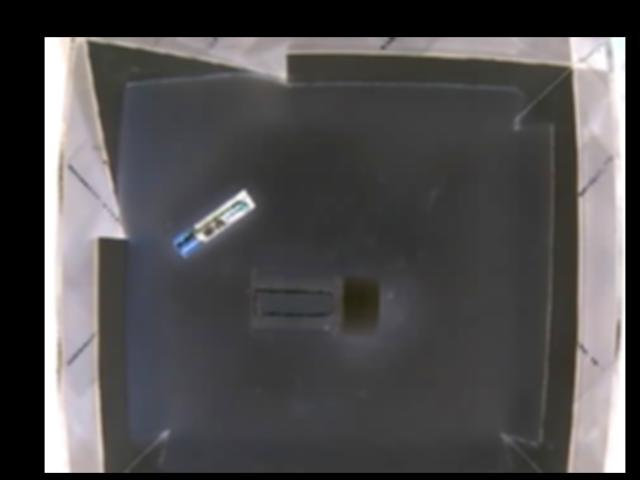Battery: (173, 190, 257, 255)
Bottle: (246, 269, 379, 333)
